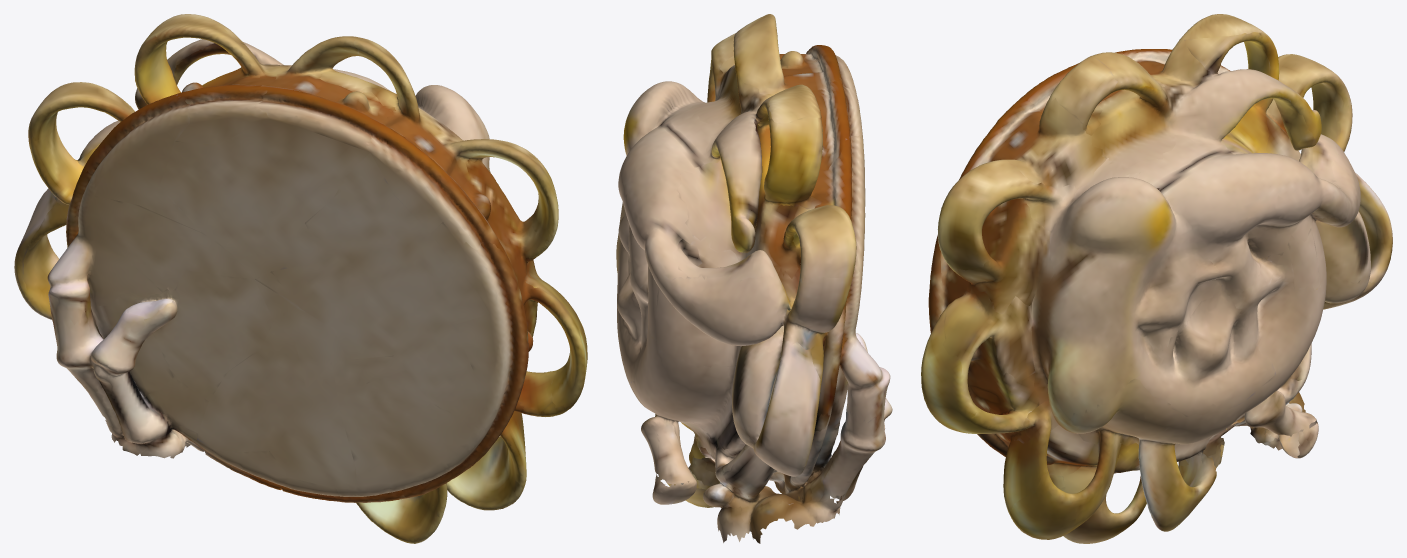
Rendered from pandero.obj.
3 views of the same model, side by side, from view 1: azimuth 30°, elevation 25°; view 2: azimuth 150°, elevation 25°; view 3: azimuth 270°, elevation 25° (orthographic). The views are drawn at different scales.
Parts seen in each view (by area): view 1: pandero; view 2: pandero; view 3: pandero.
Part boxes in pixels (<box>): pandero: <box>14,14,587,543</box>; pandero: <box>616,14,892,543</box>; pandero: <box>921,14,1392,543</box>.
Bounding box in the file's own units: 0.2246 × 0.2884 × 0.2633.
Materials: 1 (1 with a texture image).
